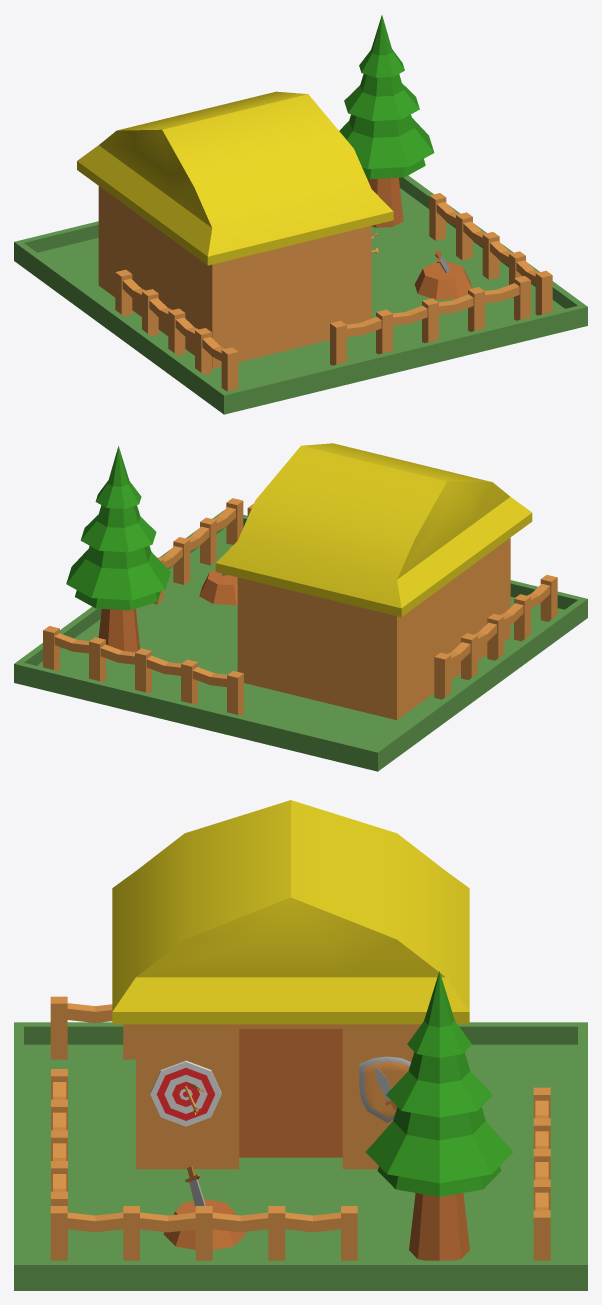
Rendered from trainingCenter.fbx.
3 views of the same model, one above another, from view 1: azimuth 30°, elevation 25°; view 2: azimuth 150°, elevation 25°; view 3: azimuth 270°, elevation 25° (orthographic). The views are drawn at different scales.
Parts seen in each view (by area): view 1: Cube.009; view 2: Cube.009; view 3: Cube.009.
Boxes of the visible parts, x1,y1,x2,y2 form: Cube.009: [14, 15, 587, 414]; Cube.009: [14, 443, 587, 771]; Cube.009: [14, 800, 587, 1290].
Bounding box in the file's own units: 288 × 288 × 159.
